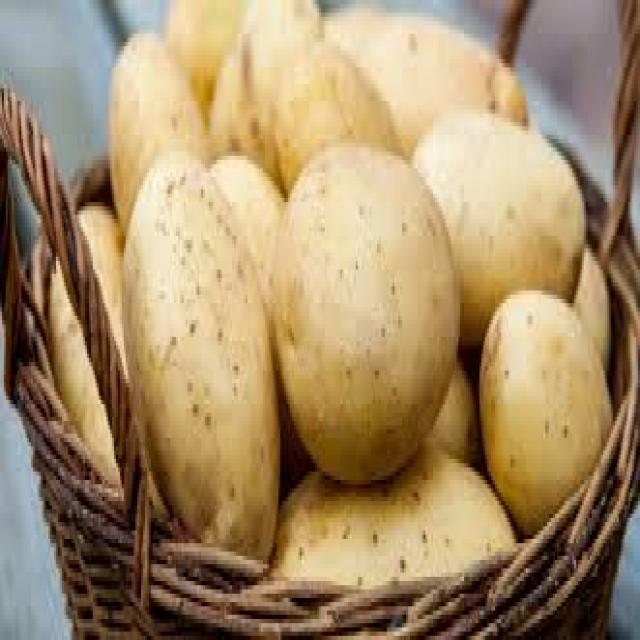Potato: (121, 144, 282, 620), (272, 139, 456, 476), (416, 100, 634, 366), (471, 261, 627, 532), (275, 438, 506, 612), (41, 163, 148, 502), (220, 3, 384, 182), (365, 19, 532, 149), (110, 9, 204, 196)
